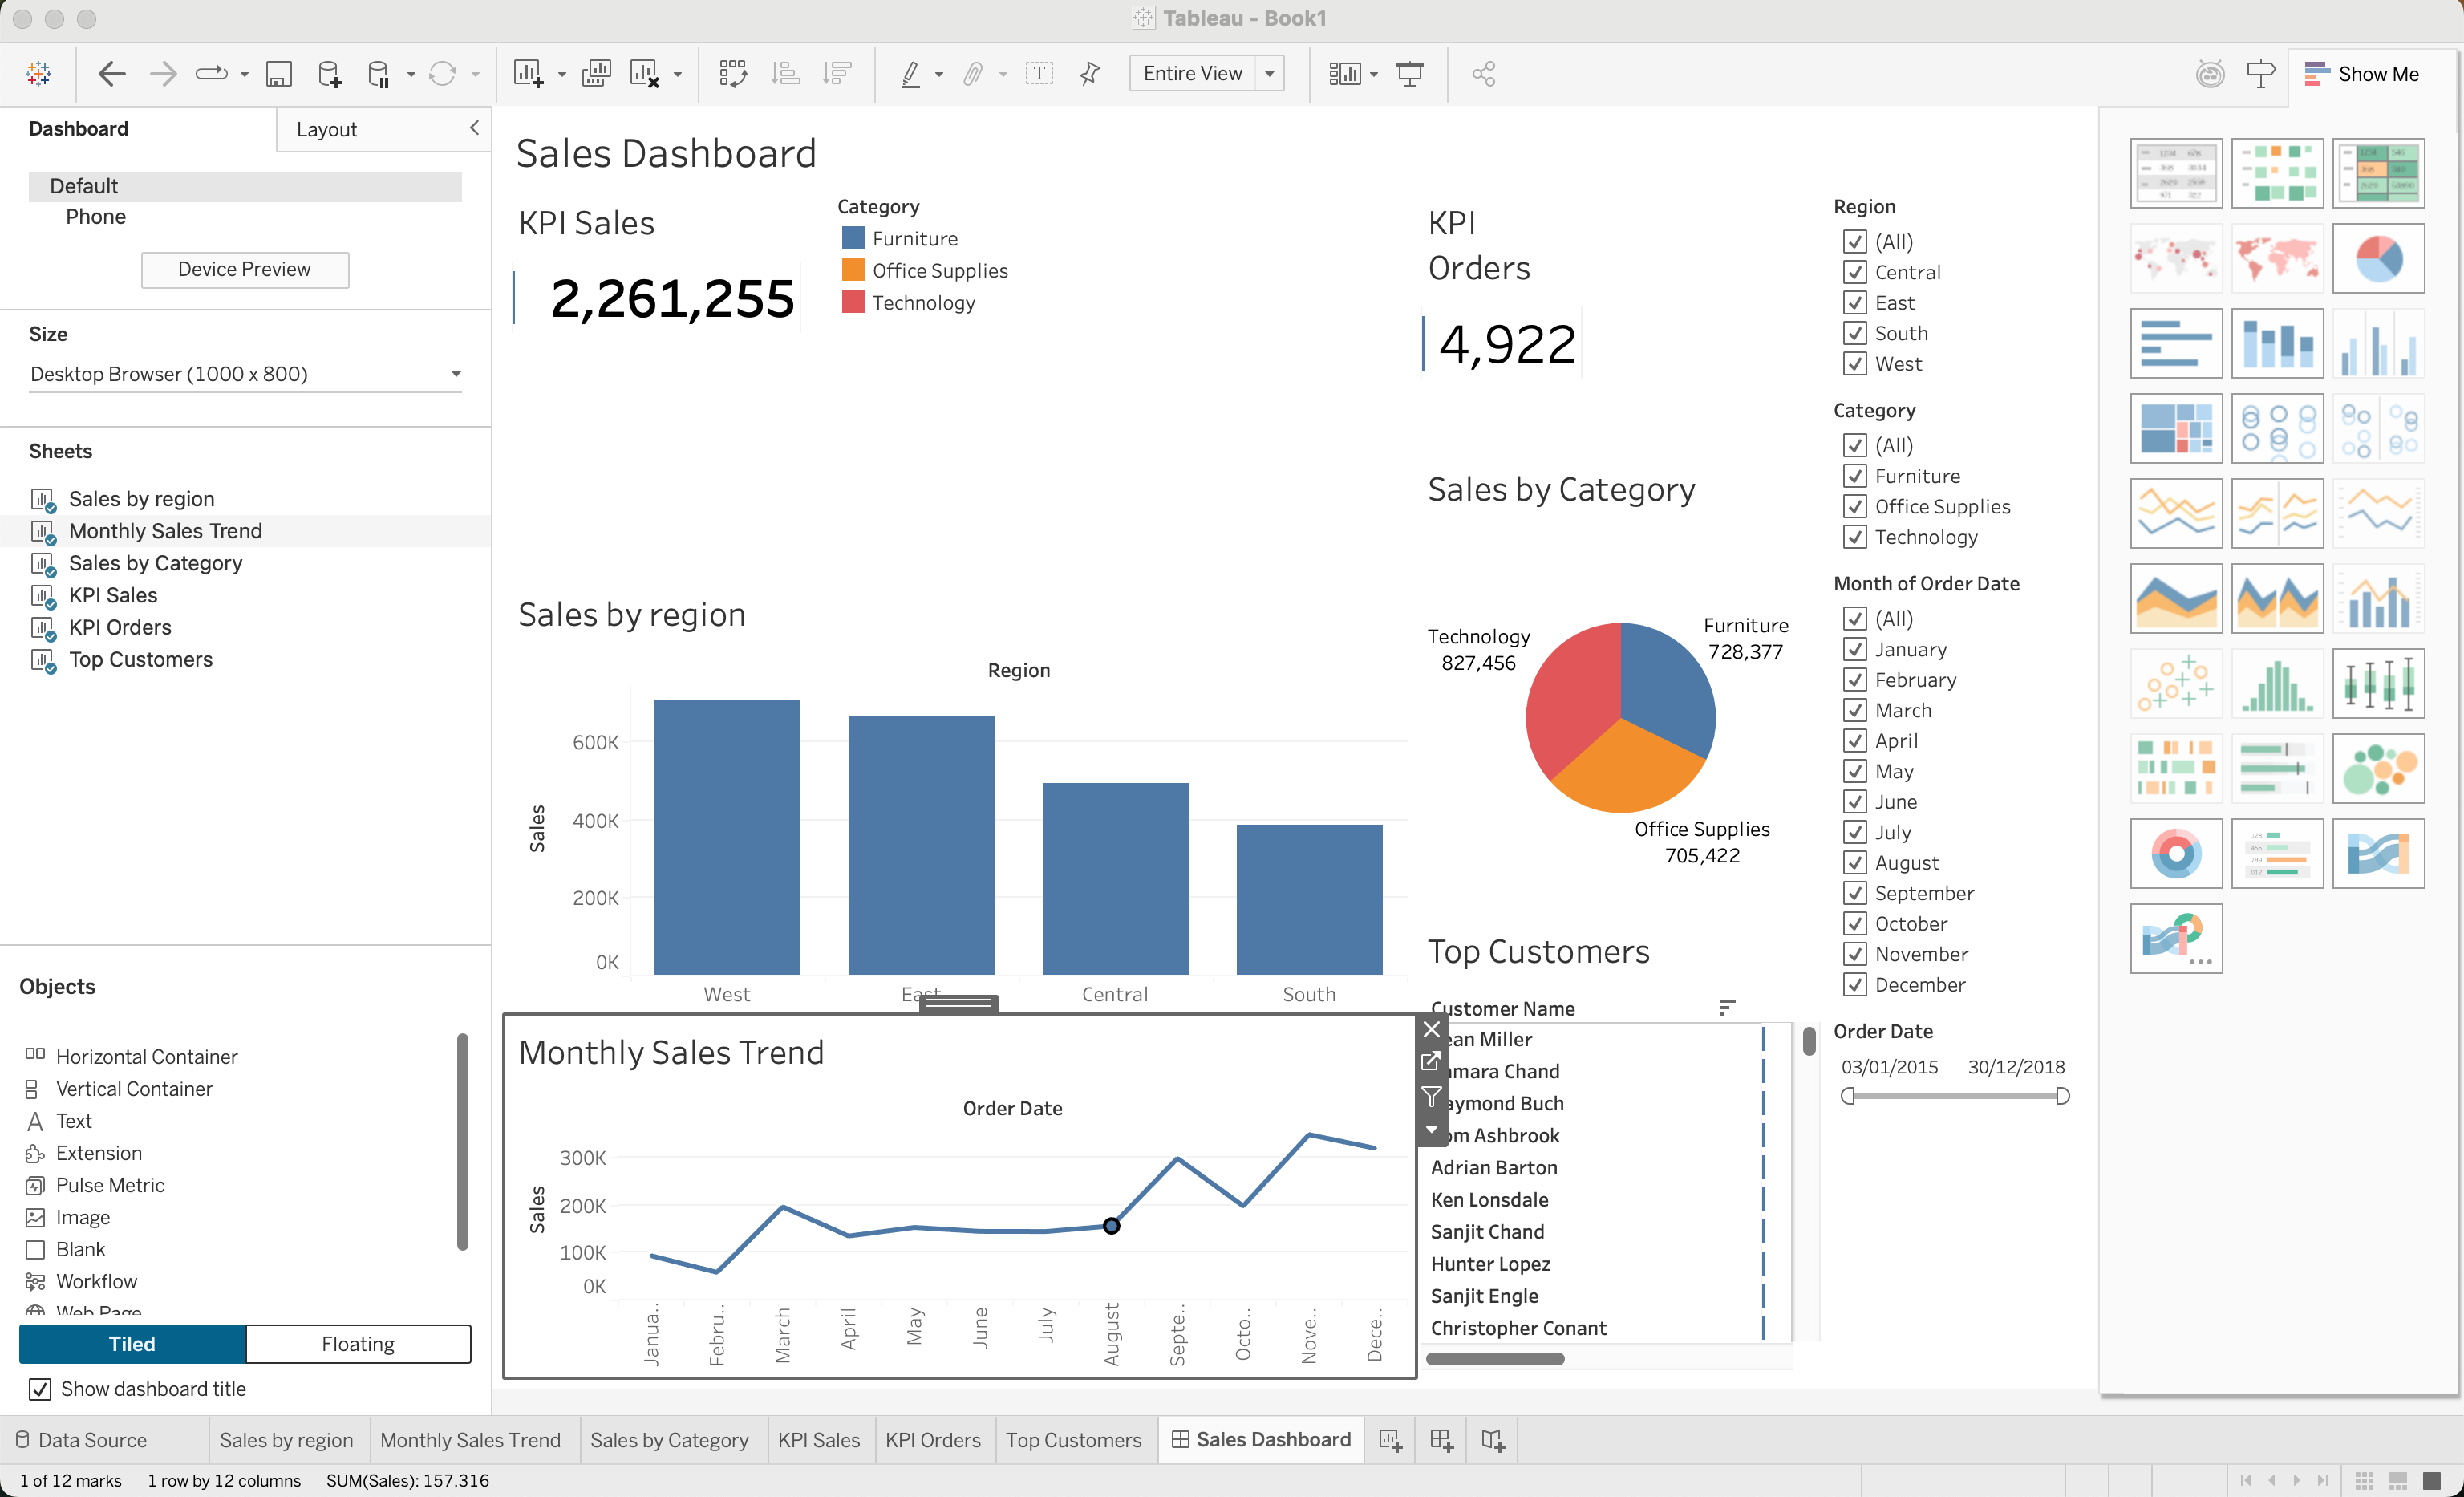

Layout of this report page (visuals, bound fields, positions):
{"tool":"tableau","page":{"name":"Sales Dashboard","canvas":[1000,800],"ordinal":0},"visuals":[{"type":"title","box":[8,8,984,42]},{"type":"worksheet","title":"KPI Sales","mark":"Bar","box":[8,50,202.7,244.2]},{"type":"legend","title":"Sales by Category","param":"[federated.1u3bct211aiobt10lu8481ekumei].[none:Category:nk]","box":[210.7,50,364.3,244.2]},{"type":"worksheet","title":"KPI Orders","mark":"Bar","box":[574.9,50,257.1,165.6]},{"type":"filter","title":"Sales by region","param":"[federated.1u3bct211aiobt10lu8481ekumei].[none:Region:nk]","box":[832,50,160,127]},{"type":"filter","title":"Sales by Category","param":"[federated.1u3bct211aiobt10lu8481ekumei].[none:Category:nk]","box":[832,177,160,108]},{"type":"worksheet","title":"Sales by Category","mark":"Pie","box":[574.9,215.6,257.1,288.2]},{"type":"filter","title":"Monthly Sales Trend","param":"[federated.1u3bct211aiobt10lu8481ekumei].[mn:Order Date:ok]","box":[832,285,160,279]},{"type":"worksheet","title":"Sales by region","mark":"Automatic","rows":["Sales"],"cols":["Region"],"box":[8,294.2,566.9,272.6]},{"type":"worksheet","title":"Top Customers","mark":"Bar","rows":["Customer Name"],"box":[574.9,503.8,257.1,288.2]},{"type":"filter","title":"Monthly Sales Trend","param":"[federated.1u3bct211aiobt10lu8481ekumei].[none:Order Date:qk]","box":[832,564,160,69]},{"type":"worksheet","title":"Monthly Sales Trend","mark":"Automatic","rows":["Sales"],"cols":["Order Date"],"box":[8,566.7,566.9,225.3]}]}

Visuals, with their boxes on the page's 1000x800 design canvas (x1, y1, x2, y2). These are canvas units, not pixel positions in the 2464x1497 screenshot, which may show the page scaled, cropped or inside an application window:
title: [8, 8, 992, 50]
"KPI Sales" worksheet (Bar marks): [8, 50, 211, 294]
"Sales by Category" legend: [211, 50, 575, 294]
"KPI Orders" worksheet (Bar marks): [575, 50, 832, 216]
"Sales by region" filter: [832, 50, 992, 177]
"Sales by Category" filter: [832, 177, 992, 285]
"Sales by Category" worksheet (Pie marks): [575, 216, 832, 504]
"Monthly Sales Trend" filter: [832, 285, 992, 564]
"Sales by region" worksheet: [8, 294, 575, 567]
"Top Customers" worksheet (Bar marks): [575, 504, 832, 792]
"Monthly Sales Trend" filter: [832, 564, 992, 633]
"Monthly Sales Trend" worksheet: [8, 567, 575, 792]
